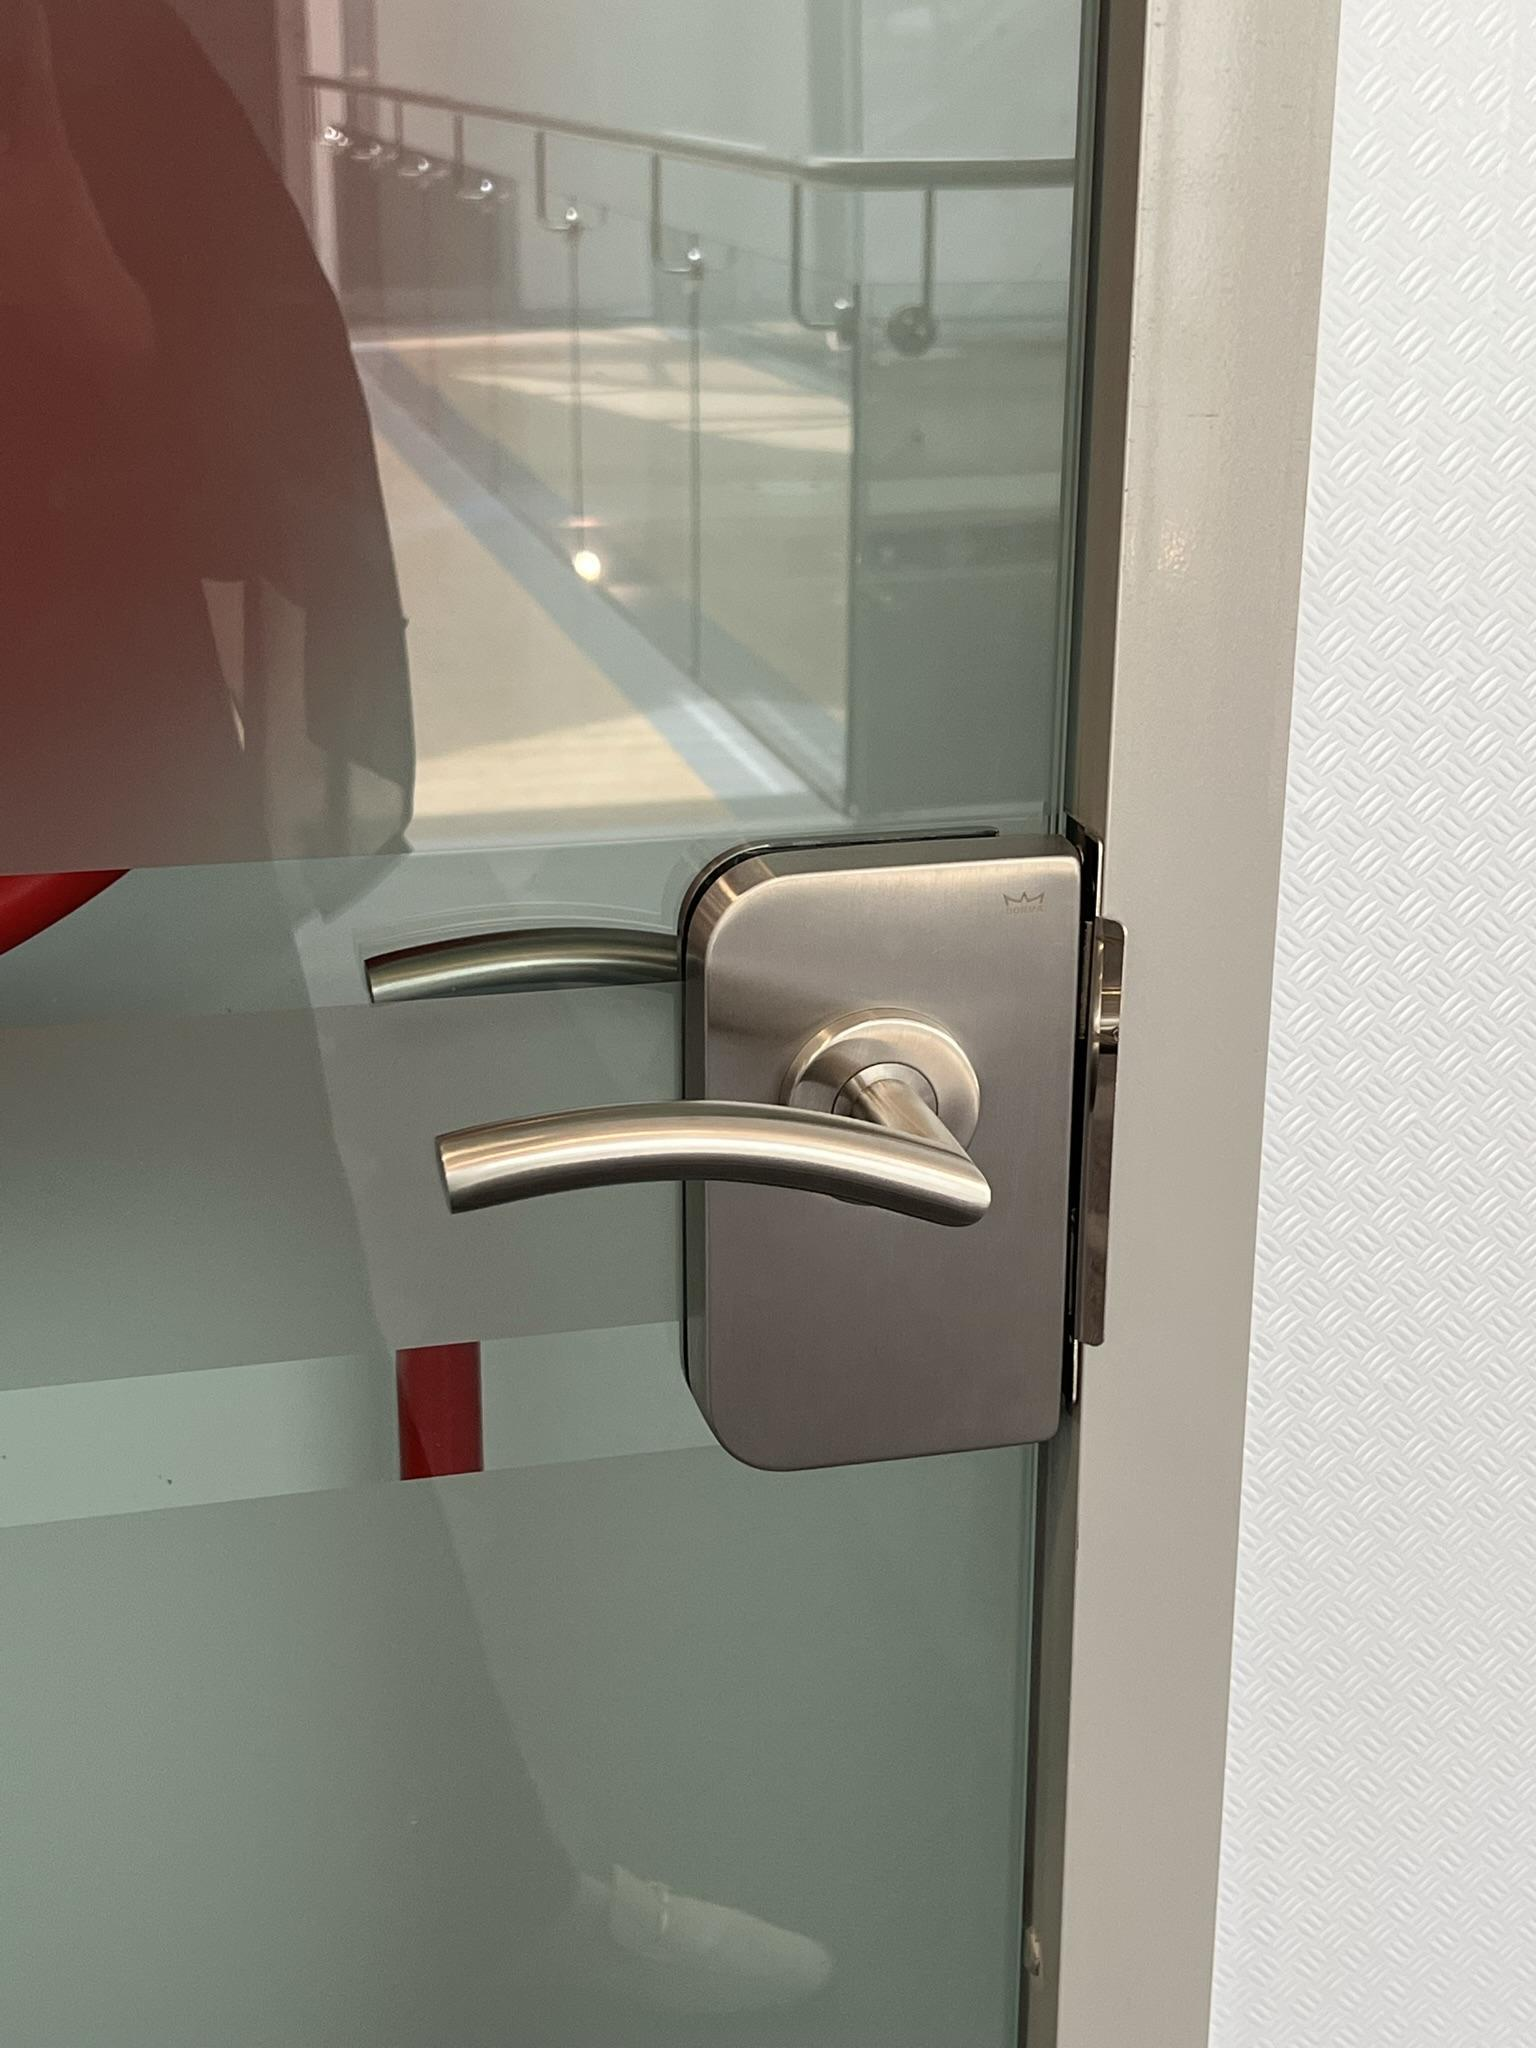door: (37, 11, 1229, 2019)
handle: (436, 827, 1084, 1469)
